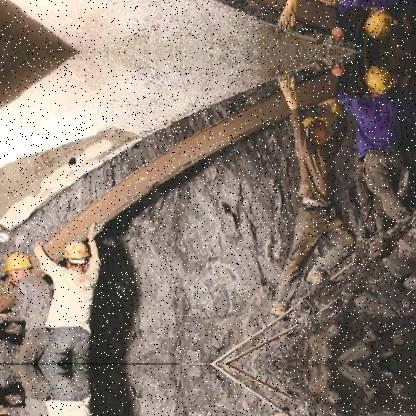helmet: (2, 250, 31, 289), (366, 62, 398, 97), (366, 6, 398, 41), (303, 112, 333, 144), (65, 238, 89, 271)
